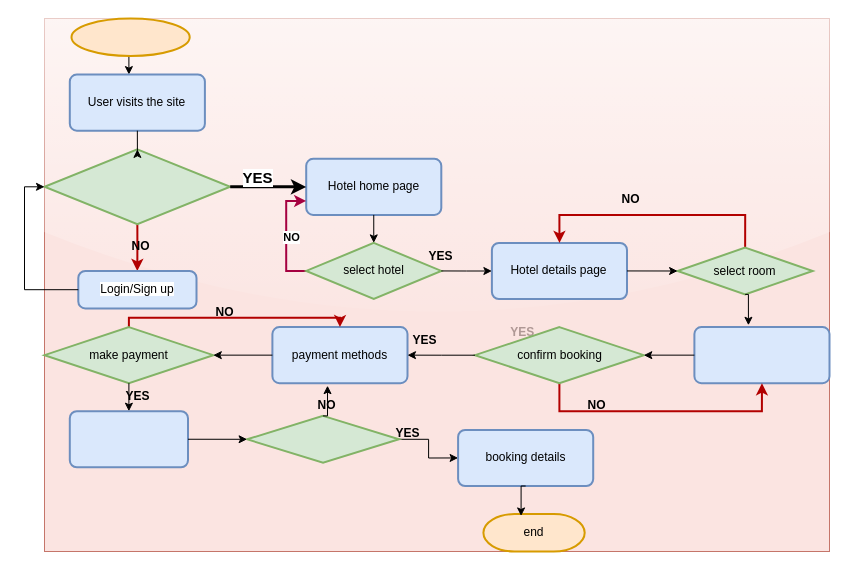
The diagram is 848 pixels wide and 569 high, and some of its shapes have lost their labels. Here are the shapes that lost their labels. From the top down, the centre of each, then its label:
(130,36): start
(137,186): Authenticated
(761,355): Booking
(128,439): pay with
(323,438): pay
